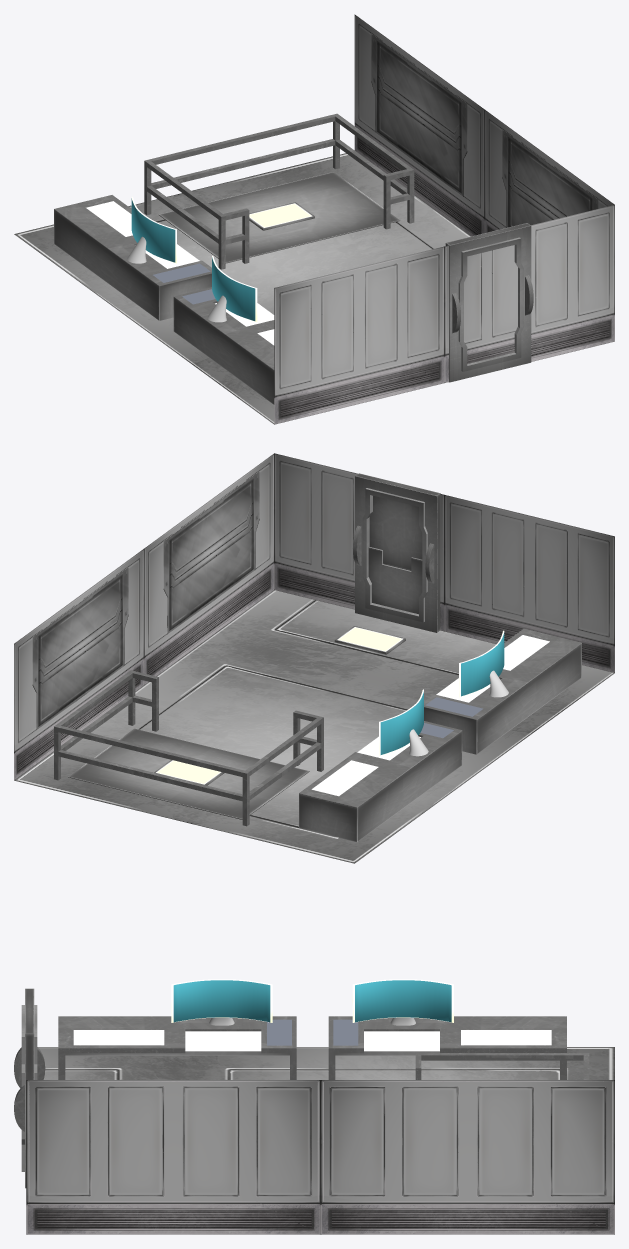
Rendered from BigRoom_Cabine.fbx.
The picture shows the model from 3 angles, top to bottom: view 1: azimuth 30°, elevation 25°; view 2: azimuth 150°, elevation 25°; view 3: azimuth 270°, elevation 25°; orthographic projection. The views are drawn at different scales.
Parts seen in each view (by area): view 1: Parede, Chao.006, Elevador, Janela.003, Mesa.006, CorrimaoElevador, Mesa.008, PortaMecanica, Janela.004, Monitor.005, Monitor.006, Placa.007 (+1 smaller); view 2: Parede, Chao.006, Mesa.006, Janela.004, Janela.003, Mesa.008, Elevador, CorrimaoElevador, PortaMecanica, Cube.001, Cube.002, Monitor.005 (+4 smaller); view 3: Parede, Chao.006, Mesa.008, Mesa.006, Monitor.005, Monitor.006, PortaMecanica, CorrimaoElevador, Teclado.004, Teclado.005, Cylinder.
Part boxes in pixels (x1,y1,x2,y2): Parede: [274, 14, 614, 424]; Chao.006: [14, 153, 470, 424]; Elevador: [159, 172, 400, 263]; Janela.003: [371, 33, 467, 196]; Mesa.006: [54, 195, 211, 320]; CorrimaoElevador: [144, 113, 414, 269]; Mesa.008: [173, 287, 274, 404]; PortaMecanica: [445, 223, 531, 382]; Janela.004: [502, 129, 598, 227]; Monitor.005: [207, 255, 257, 322]; Monitor.006: [127, 196, 176, 263]; Placa.007: [249, 202, 314, 230]; Parede: [14, 453, 614, 780]; Chao.006: [14, 590, 614, 863]; Mesa.006: [299, 721, 462, 841]; Janela.004: [163, 471, 259, 634]; Janela.003: [32, 567, 128, 729]; Mesa.008: [424, 628, 581, 754]; Elevador: [68, 728, 309, 819]; CorrimaoElevador: [54, 670, 323, 826]; PortaMecanica: [355, 473, 440, 632]; Cube.001: [369, 496, 422, 570]; Cube.002: [368, 547, 422, 614]; Monitor.005: [459, 630, 508, 697]; Parede: [26, 1080, 614, 1234]; Chao.006: [37, 1047, 614, 1079]; Mesa.008: [58, 1016, 296, 1079]; Mesa.006: [328, 1016, 566, 1079]; Monitor.005: [171, 979, 272, 1025]; Monitor.006: [352, 979, 453, 1025]; PortaMecanica: [21, 988, 37, 1188]; CorrimaoElevador: [415, 1053, 589, 1079]; Teclado.004: [185, 1031, 261, 1051]; Teclado.005: [364, 1031, 439, 1051]; Cylinder: [14, 1047, 45, 1131].
Size of the model in its own units: 1318 by 519 by 1782.
